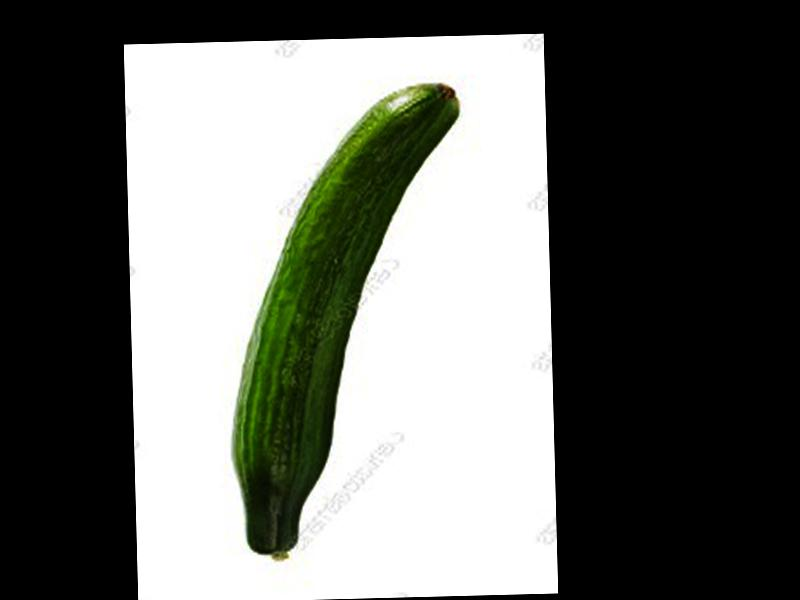Cucumber: (223, 83, 472, 562)
